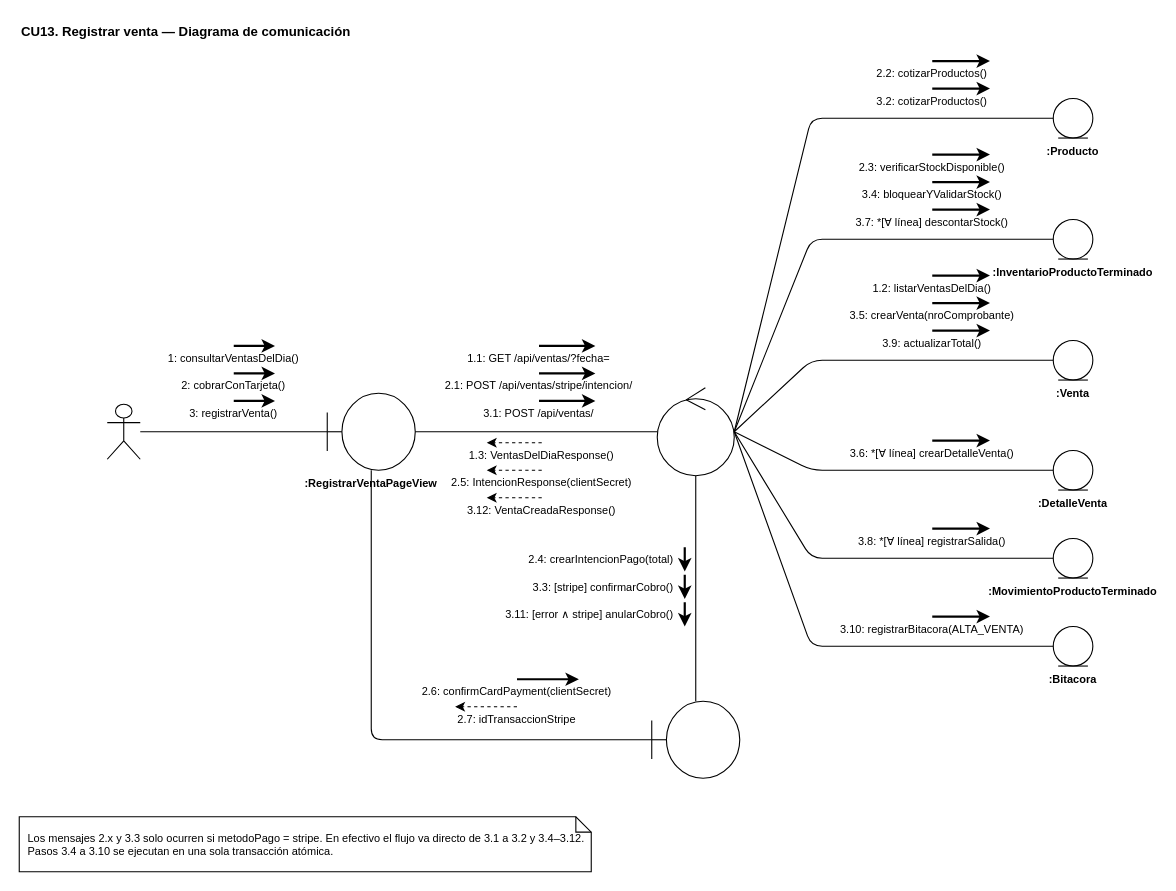
Some shapes in this 1176 by 891 pixel diagram are drawn without their labels. The shapes that lost their labels are listed below. From the top down, each one's box as (x1, y1, x2, y2) in pixels, then its label:
(106, 403, 140, 459): :PersonalVentas
(656, 387, 734, 476): :VentaController
(651, 700, 740, 778): :PasarelaStripe
